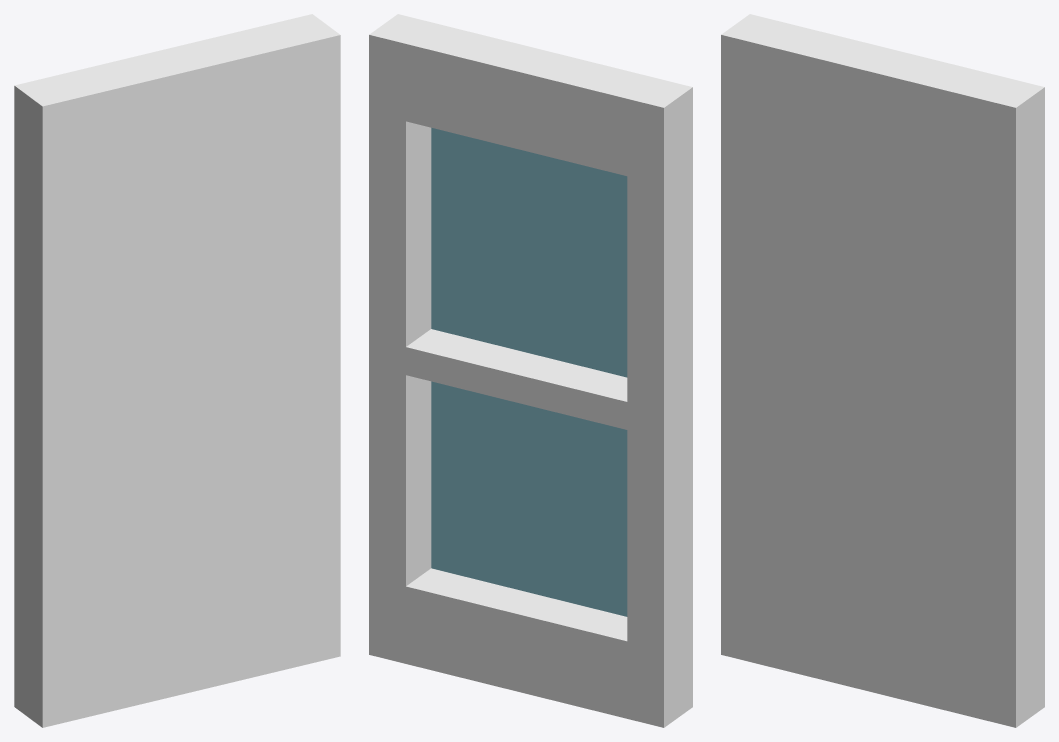
The model's file is puerta_entrada.obj.
The picture shows the model from 3 angles, left to right: view 1: azimuth 30°, elevation 25°; view 2: azimuth 150°, elevation 25°; view 3: azimuth 330°, elevation 25°; orthographic projection.
Parts seen in each view (by area): view 1: polySurface1050 polySurface242; view 2: polySurface1050 polySurface242; view 3: polySurface1050 polySurface242.
Part boxes in pixels (x1,y1,x2,y2): polySurface1050 polySurface242: (14,14,340,727); polySurface1050 polySurface242: (369,14,692,727); polySurface1050 polySurface242: (721,14,1044,727).
Bounding box in the file's own units: 4.56 × 9.12 × 0.7925.
2 materials, 2 textured.
